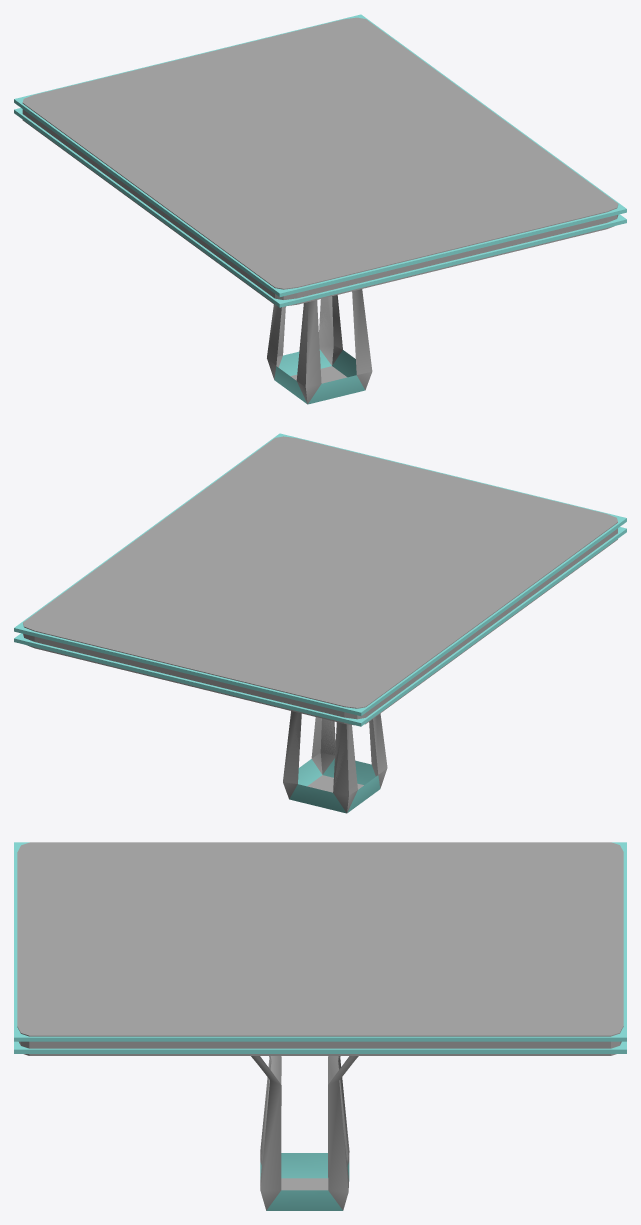
The model's file is table.fbx.
The picture shows the model from 3 angles, top to bottom: view 1: azimuth 30°, elevation 25°; view 2: azimuth 150°, elevation 25°; view 3: azimuth 270°, elevation 25°; orthographic projection. The views are drawn at different scales.
Visible parts, largest first — view 1: polySurface3, esterno, polySurface2, polySurface1, interno; view 2: polySurface3, esterno, polySurface2, polySurface1, interno; view 3: polySurface3, esterno, polySurface2, polySurface1.
Part boxes in pixels (<box>): polySurface3: <box>22,17,618,306</box>; esterno: <box>267,290,371,404</box>; polySurface2: <box>14,14,626,296</box>; polySurface1: <box>14,108,626,307</box>; interno: <box>267,289,372,386</box>; polySurface3: <box>23,436,617,725</box>; esterno: <box>283,713,387,813</box>; polySurface2: <box>14,433,626,715</box>; polySurface1: <box>14,527,626,726</box>; interno: <box>283,711,387,795</box>; polySurface3: <box>17,842,623,1055</box>; esterno: <box>251,1056,358,1210</box>; polySurface2: <box>14,842,626,1041</box>; polySurface1: <box>14,1041,626,1053</box>.
Size of the model in its own units: 1.21 by 0.7479 by 1.6.
